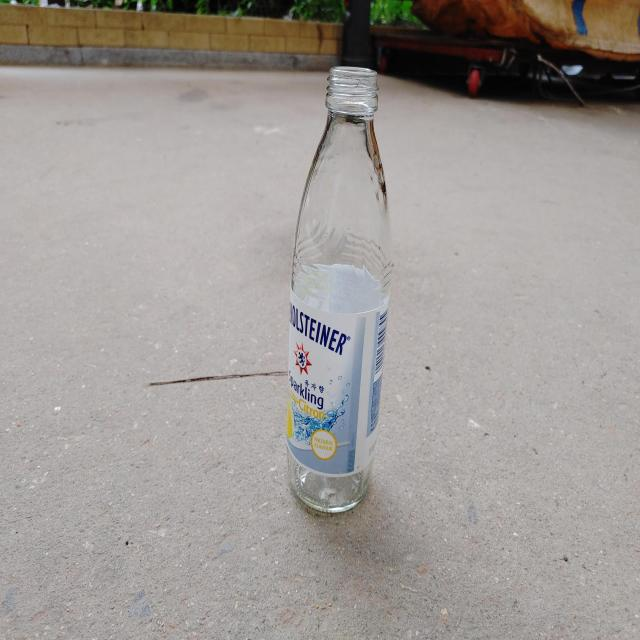glass: (286, 66, 392, 513)
